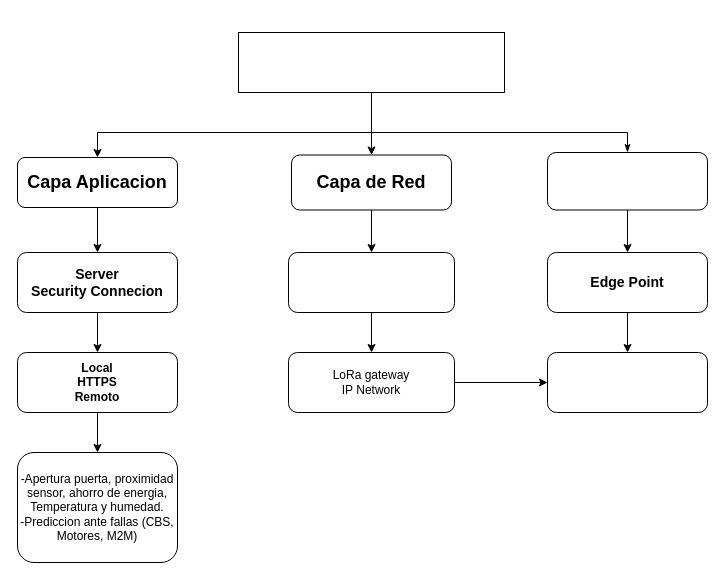
Image size: 725x580. Some labels were removed from this diagram. Here are the shapes that lost their labels. From the top down, the box of each, then its label:
(238, 32, 504, 92): Sistemas de Control Inteligentes
(546, 152, 708, 210): Capa fisica Sensores
(288, 252, 454, 312): Edge Router
(546, 352, 708, 412): Camera IP OIT Device Edge Node/Edge Lite
